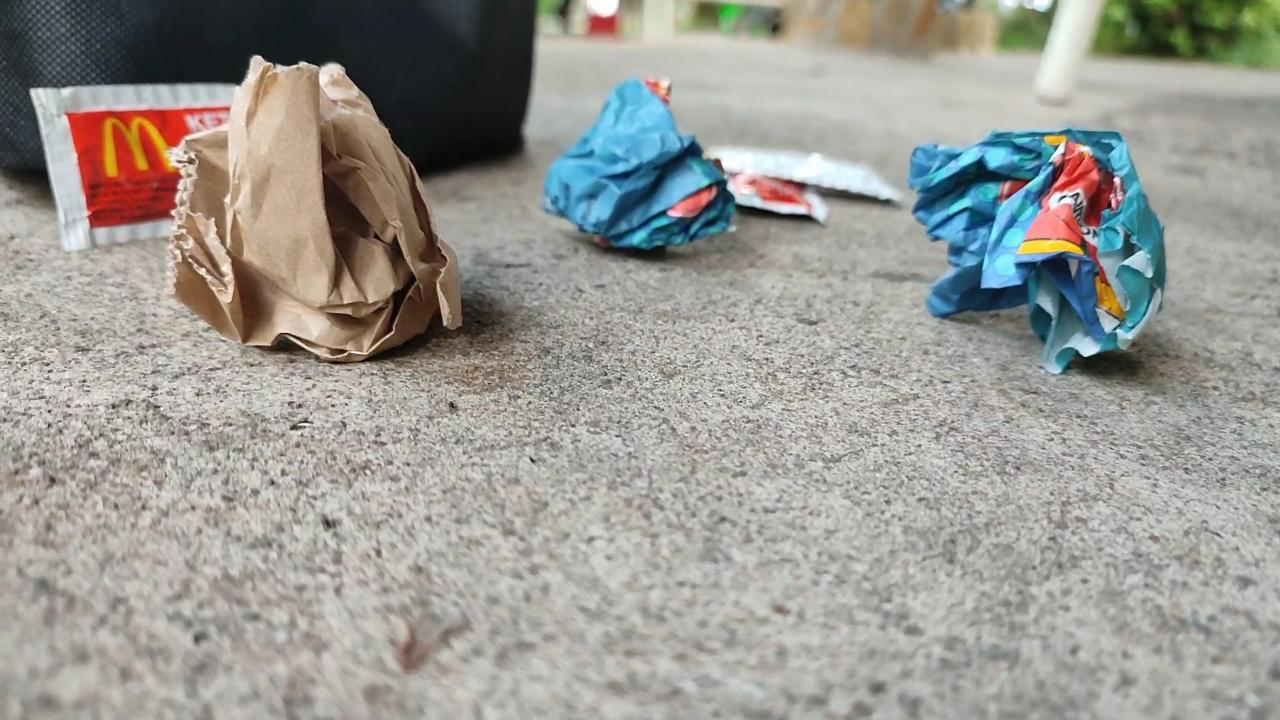Paper: (162, 45, 472, 359), (906, 110, 1182, 376), (543, 56, 734, 283)
